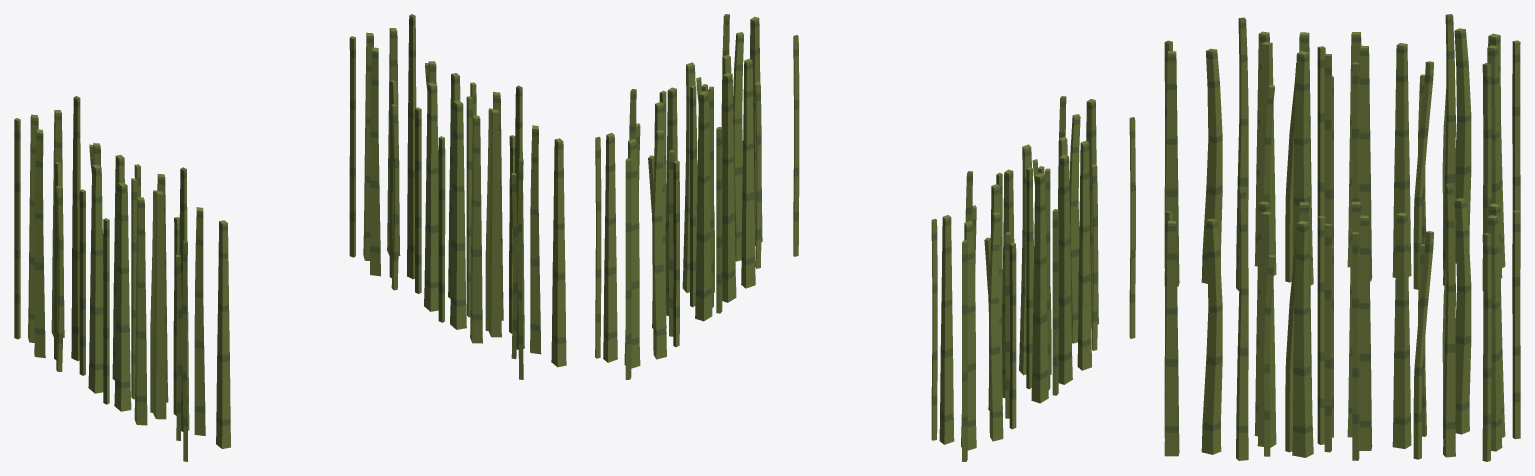
The model's file is side_bamboos_mid.glb.
3 views of the same model, side by side, from view 1: azimuth 30°, elevation 25°; view 2: azimuth 150°, elevation 25°; view 3: azimuth 270°, elevation 25° (orthographic). The views are drawn at different scales.
Visible parts, largest first — view 1: bamboos.001; view 2: bamboos.001; view 3: bamboos.001.
Boxes of the visible parts, x1,y1,x2,y2 form: bamboos.001: (14,14,566,461); bamboos.001: (595,14,1135,461); bamboos.001: (1164,14,1520,461).
Bounding box in the file's own units: 9.31 × 5.9 × 7.03.
